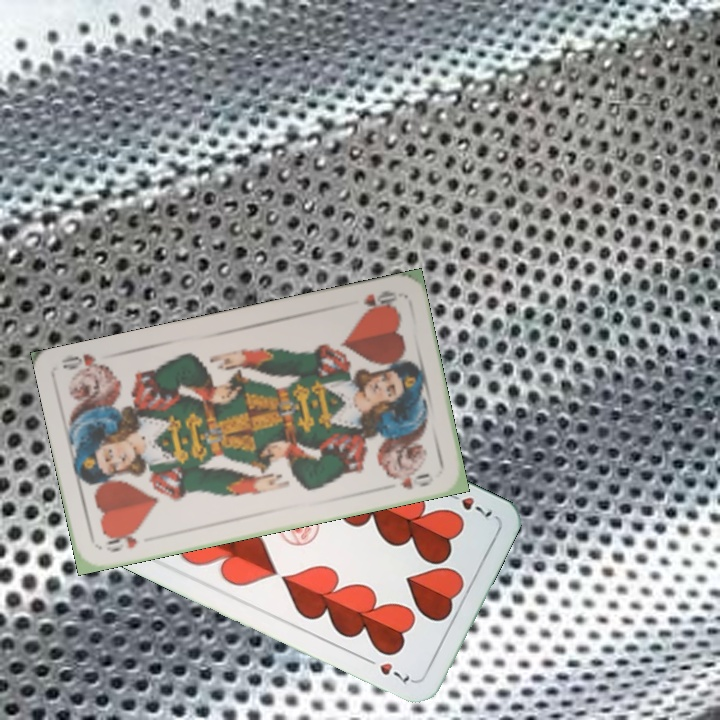H7: (442, 488, 495, 520)
HO: (357, 286, 400, 316), (102, 526, 143, 555)
